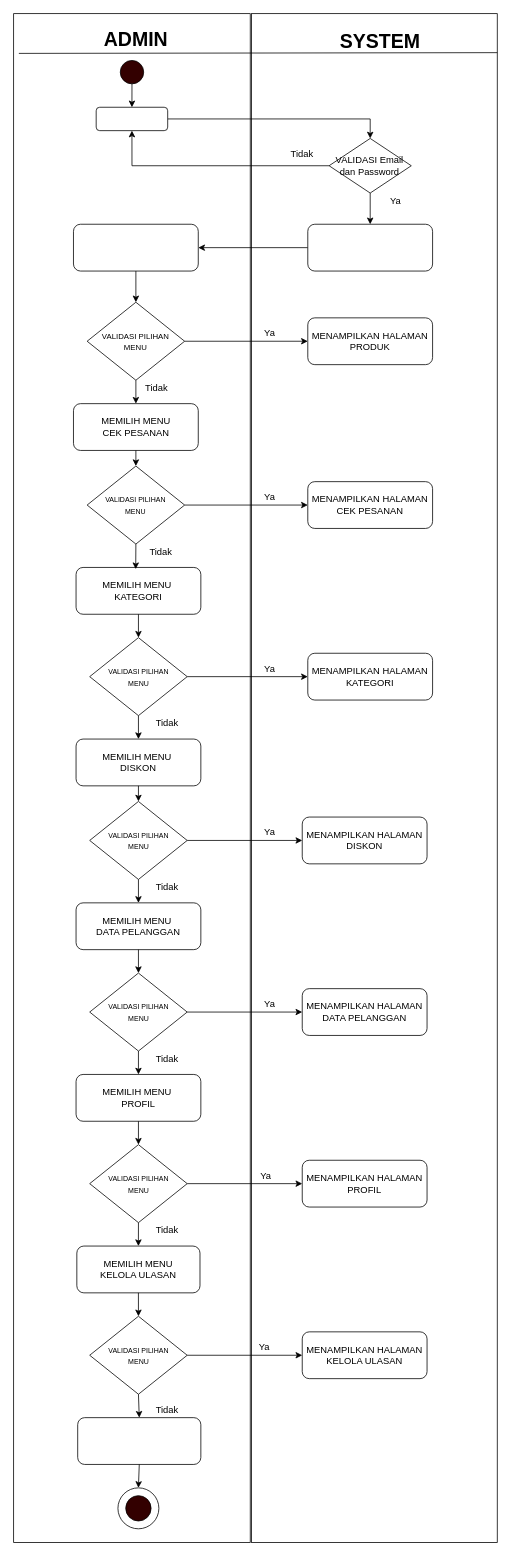
The diagram is 512 pixels wide and 1556 high, and some of its shapes have lost their labels. The shapes that lost their labels are listed below. From the top down, each one's centre as x and y in pixels, then its label:
[131,118]: LOGIN
[135,247]: MEMILIH MENU PRODUK
[370,247]: MENAMPILKAN HALAMAN DASHBOARD
[139,1440]: MEMILIH MENU LOGOUT
